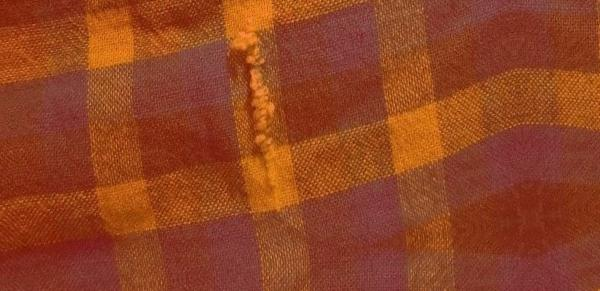knot: (231, 27, 285, 202)
